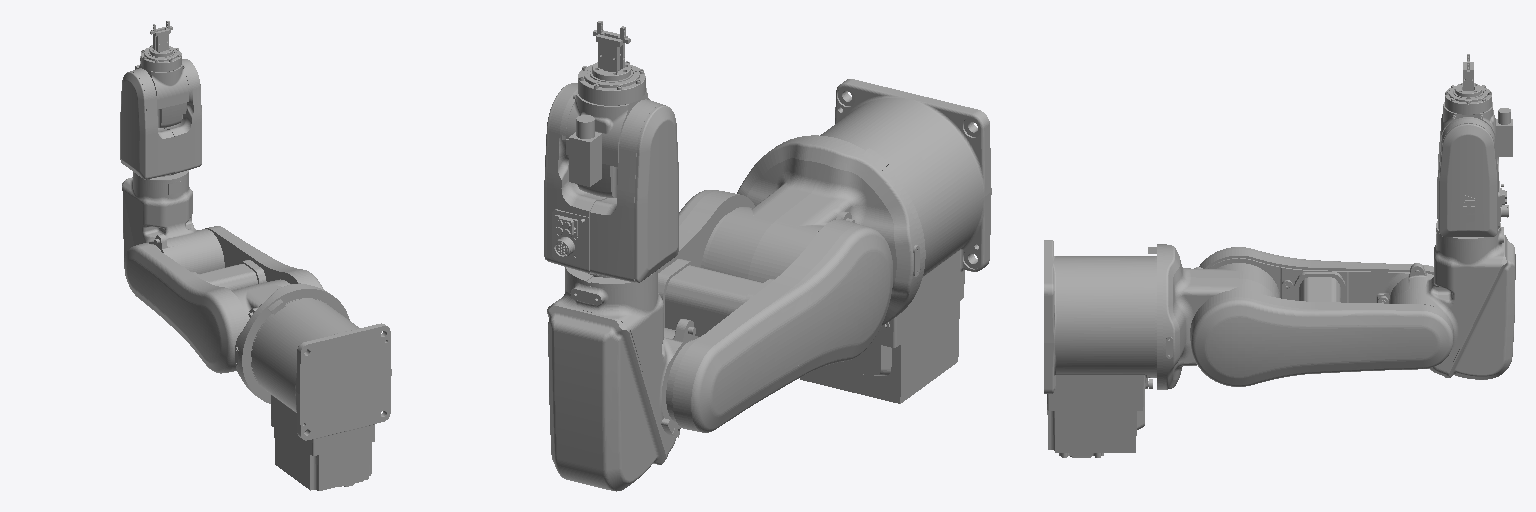
URDF robot description (abb):
<?xml version="1.0" encoding="utf-8"?>
<!-- =================================================================================== -->
<!-- |    This document was autogenerated by xacro from abb.xacro                      | -->
<!-- |    EDITING THIS FILE BY HAND IS NOT RECOMMENDED                                 | -->
<!-- =================================================================================== -->
<robot name="abb">
  <material name="silver">
    <color rgba="0.700 0.700 0.700 1.000"/>
  </material>
  <transmission name="Revolute 1_tran">
    <type>transmission_interface/SimpleTransmission</type>
    <joint name="Revolute 1">
      <hardwareInterface>hardware_interface/EffortJointInterface</hardwareInterface>
    </joint>
    <actuator name="Revolute 1_actr">
      <hardwareInterface>hardware_interface/EffortJointInterface</hardwareInterface>
      <mechanicalReduction>1</mechanicalReduction>
    </actuator>
  </transmission>
  <transmission name="Revolute 2_tran">
    <type>transmission_interface/SimpleTransmission</type>
    <joint name="Revolute 2">
      <hardwareInterface>hardware_interface/EffortJointInterface</hardwareInterface>
    </joint>
    <actuator name="Revolute 2_actr">
      <hardwareInterface>hardware_interface/EffortJointInterface</hardwareInterface>
      <mechanicalReduction>1</mechanicalReduction>
    </actuator>
  </transmission>
  <transmission name="Revolute 3_tran">
    <type>transmission_interface/SimpleTransmission</type>
    <joint name="Revolute 3">
      <hardwareInterface>hardware_interface/EffortJointInterface</hardwareInterface>
    </joint>
    <actuator name="Revolute 3_actr">
      <hardwareInterface>hardware_interface/EffortJointInterface</hardwareInterface>
      <mechanicalReduction>1</mechanicalReduction>
    </actuator>
  </transmission>
  <transmission name="Revolute 4_tran">
    <type>transmission_interface/SimpleTransmission</type>
    <joint name="Revolute 4">
      <hardwareInterface>hardware_interface/EffortJointInterface</hardwareInterface>
    </joint>
    <actuator name="Revolute 4_actr">
      <hardwareInterface>hardware_interface/EffortJointInterface</hardwareInterface>
      <mechanicalReduction>1</mechanicalReduction>
    </actuator>
  </transmission>
  <transmission name="Revolute 5_tran">
    <type>transmission_interface/SimpleTransmission</type>
    <joint name="Revolute 5">
      <hardwareInterface>hardware_interface/EffortJointInterface</hardwareInterface>
    </joint>
    <actuator name="Revolute 5_actr">
      <hardwareInterface>hardware_interface/EffortJointInterface</hardwareInterface>
      <mechanicalReduction>1</mechanicalReduction>
    </actuator>
  </transmission>
  <transmission name="Revolute 6_tran">
    <type>transmission_interface/SimpleTransmission</type>
    <joint name="Revolute 6">
      <hardwareInterface>hardware_interface/EffortJointInterface</hardwareInterface>
    </joint>
    <actuator name="Revolute 6_actr">
      <hardwareInterface>hardware_interface/EffortJointInterface</hardwareInterface>
      <mechanicalReduction>1</mechanicalReduction>
    </actuator>
  </transmission>
  <gazebo>
    <plugin filename="libgazebo_ros_control.so" name="control"/>
  </gazebo>
  <gazebo reference="base_link">
    <material>Gazebo/Silver</material>
    <mu1>0.2</mu1>
    <mu2>0.2</mu2>
    <self_collide>true</self_collide>
    <gravity>true</gravity>
  </gazebo>
  <gazebo reference="link_one_1">
    <material>Gazebo/Silver</material>
    <mu1>0.2</mu1>
    <mu2>0.2</mu2>
    <self_collide>true</self_collide>
  </gazebo>
  <gazebo reference="link_two_1">
    <material>Gazebo/Silver</material>
    <mu1>0.2</mu1>
    <mu2>0.2</mu2>
    <self_collide>true</self_collide>
  </gazebo>
  <gazebo reference="link_three_1">
    <material>Gazebo/Silver</material>
    <mu1>0.2</mu1>
    <mu2>0.2</mu2>
    <self_collide>true</self_collide>
  </gazebo>
  <gazebo reference="link_four_1">
    <material>Gazebo/Silver</material>
    <mu1>0.2</mu1>
    <mu2>0.2</mu2>
    <self_collide>true</self_collide>
  </gazebo>
  <gazebo reference="link_five_1">
    <material>Gazebo/Silver</material>
    <mu1>0.2</mu1>
    <mu2>0.2</mu2>
    <self_collide>true</self_collide>
  </gazebo>
  <gazebo reference="link_six_1">
    <material>Gazebo/Silver</material>
    <mu1>0.2</mu1>
    <mu2>0.2</mu2>
    <self_collide>true</self_collide>
  </gazebo>
  <gazebo reference="left_gripper_1">
    <material>Gazebo/Silver</material>
    <mu1>0.2</mu1>
    <mu2>0.2</mu2>
    <self_collide>true</self_collide>
  </gazebo>
  <gazebo reference="right_gripper_1">
    <material>Gazebo/Silver</material>
    <mu1>0.2</mu1>
    <mu2>0.2</mu2>
    <self_collide>true</self_collide>
  </gazebo>
  <gazebo reference="camera_1">
    <material>Gazebo/Silver</material>
    <mu1>0.2</mu1>
    <mu2>0.2</mu2>
    <self_collide>true</self_collide>
  </gazebo>
  <gazebo reference="ef_body_1">
    <material>Gazebo/Silver</material>
    <mu1>0.2</mu1>
    <mu2>0.2</mu2>
    <self_collide>true</self_collide>
  </gazebo>
  <link name="base_link">
    <inertial>
      <origin rpy="0 0 0" xyz="8.012829465790817e-05 0.0796373967366606 -0.04203909918692455"/>
      <mass value="48.78806525610532"/>
      <inertia ixx="0.38566" ixy="6.3e-05" ixz="0.000634" iyy="0.370816" iyz="-0.010275" izz="0.194109"/>
    </inertial>
    <visual>
      <origin rpy="0 0 0" xyz="0 0 0"/>
      <geometry>
        <mesh filename="package://meshes/base_link.stl" scale="0.001 0.001 0.001"/>
      </geometry>
      <material name="silver"/>
    </visual>
    <collision>
      <origin rpy="0 0 0" xyz="0 0 0"/>
      <geometry>
        <mesh filename="package://meshes/base_link.stl" scale="0.001 0.001 0.001"/>
      </geometry>
    </collision>
  </link>
  <link name="link_one_1">
    <inertial>
      <origin rpy="0 0 0" xyz="-0.00011916443999746602 0.07041182603856488 9.765534797940541e-05"/>
      <mass value="24.076192117313017"/>
      <inertia ixx="0.113074" ixy="-0.000152" ixz="0.000101" iyy="0.082059" iyz="0.000182" izz="0.11161"/>
    </inertial>
    <visual>
      <origin rpy="0 0 0" xyz="-0.0 -0.166 -0.0"/>
      <geometry>
        <mesh filename="package://meshes/link_one_1.stl" scale="0.001 0.001 0.001"/>
      </geometry>
      <material name="silver"/>
    </visual>
    <collision>
      <origin rpy="0 0 0" xyz="-0.0 -0.166 -0.0"/>
      <geometry>
        <mesh filename="package://meshes/link_one_1.stl" scale="0.001 0.001 0.001"/>
      </geometry>
    </collision>
  </link>
  <link name="link_two_1">
    <inertial>
      <origin rpy="0 0 0" xyz="-0.061616888272031205 0.10124228312538341 0.0007963464296757136"/>
      <mass value="30.683386891011434"/>
      <inertia ixx="0.326327" ixy="0.003964" ixz="-5.8e-05" iyy="0.20375" iyz="-0.000476" izz="0.473455"/>
    </inertial>
    <visual>
      <origin rpy="0 0 0" xyz="-0.0595 -0.288 8e-06"/>
      <geometry>
        <mesh filename="package://meshes/link_two_1.stl" scale="0.001 0.001 0.001"/>
      </geometry>
      <material name="silver"/>
    </visual>
    <collision>
      <origin rpy="0 0 0" xyz="-0.0595 -0.288 8e-06"/>
      <geometry>
        <mesh filename="package://meshes/link_two_1.stl" scale="0.001 0.001 0.001"/>
      </geometry>
    </collision>
  </link>
  <link name="link_three_1">
    <inertial>
      <origin rpy="0 0 0" xyz="0.0510673727268393 0.057896173438662824 0.022837283940879072"/>
      <mass value="23.108195954813556"/>
      <inertia ixx="0.131196" ixy="0.001429" ixz="0.000621" iyy="0.099697" iyz="-0.011195" izz="0.06558"/>
    </inertial>
    <visual>
      <origin rpy="0 0 0" xyz="0.05 -0.558 -3.3e-05"/>
      <geometry>
        <mesh filename="package://meshes/link_three_1.stl" scale="0.001 0.001 0.001"/>
      </geometry>
      <material name="silver"/>
    </visual>
    <collision>
      <origin rpy="0 0 0" xyz="0.05 -0.558 -3.3e-05"/>
      <geometry>
        <mesh filename="package://meshes/link_three_1.stl" scale="0.001 0.001 0.001"/>
      </geometry>
    </collision>
  </link>
  <link name="link_four_1">
    <inertial>
      <origin rpy="0 0 0" xyz="0.0002437766059516598 0.00035432075163799315 0.07512904879023294"/>
      <mass value="10.410422726556684"/>
      <inertia ixx="0.031498" ixy="-9.8e-05" ixz="0.000182" iyy="0.041181" iyz="0.00014" izz="0.022294"/>
    </inertial>
    <visual>
      <origin rpy="0 0 0" xyz="-2e-05 -0.627905 -0.14967"/>
      <geometry>
        <mesh filename="package://meshes/link_four_1.stl" scale="0.001 0.001 0.001"/>
      </geometry>
      <material name="silver"/>
    </visual>
    <collision>
      <origin rpy="0 0 0" xyz="-2e-05 -0.627905 -0.14967"/>
      <geometry>
        <mesh filename="package://meshes/link_four_1.stl" scale="0.001 0.001 0.001"/>
      </geometry>
    </collision>
  </link>
  <link name="link_five_1">
    <inertial>
      <origin rpy="0 0 0" xyz="0.031037091987359884 3.887912818956174e-05 -0.0011008963670425809"/>
      <mass value="4.291162754920929"/>
      <inertia ixx="0.00701" ixy="-0.0" ixz="-1.3e-05" iyy="0.006402" iyz="-8e-06" izz="0.003179"/>
    </inertial>
    <visual>
      <origin rpy="0 0 0" xyz="0.03096 -0.627832 -0.302075"/>
      <geometry>
        <mesh filename="package://meshes/link_five_1.stl" scale="0.001 0.001 0.001"/>
      </geometry>
      <material name="silver"/>
    </visual>
    <collision>
      <origin rpy="0 0 0" xyz="0.03096 -0.627832 -0.302075"/>
      <geometry>
        <mesh filename="package://meshes/link_five_1.stl" scale="0.001 0.001 0.001"/>
      </geometry>
    </collision>
  </link>
  <link name="link_six_1">
    <inertial>
      <origin rpy="0 0 0" xyz="0.0001704327498104366 -3.440002126486874e-07 0.005938287091732386"/>
      <mass value="0.10737560006286881"/>
      <inertia ixx="1.3e-05" ixy="-0.0" ixz="-0.0" iyy="1.3e-05" iyz="0.0" izz="2.3e-05"/>
    </inertial>
    <visual>
      <origin rpy="0 0 0" xyz="-4.8e-05 -0.627831 -0.36107"/>
      <geometry>
        <mesh filename="package://meshes/link_six_1.stl" scale="0.001 0.001 0.001"/>
      </geometry>
      <material name="silver"/>
    </visual>
    <collision>
      <origin rpy="0 0 0" xyz="-4.8e-05 -0.627831 -0.36107"/>
      <geometry>
        <mesh filename="package://meshes/link_six_1.stl" scale="0.001 0.001 0.001"/>
      </geometry>
    </collision>
  </link>
  <link name="left_gripper_1">
    <inertial>
      <origin rpy="0 0 0" xyz="-0.6134605599811394 0.0001383187190899804 -0.3982785134737753"/>
      <mass value="0.0035451260308642795"/>
      <inertia ixx="0.0" ixy="0.0" ixz="0.0" iyy="0.0" iyz="-0.0" izz="0.0"/>
    </inertial>
    <visual>
      <origin rpy="0 0 0" xyz="-0.627956 -0.627706 -0.810557"/>
      <geometry>
        <mesh filename="package://meshes/left_gripper_1.stl" scale="0.001 0.001 0.001"/>
      </geometry>
      <material name="silver"/>
    </visual>
    <collision>
      <origin rpy="0 0 0" xyz="-0.627956 -0.627706 -0.810557"/>
      <geometry>
        <mesh filename="package://meshes/left_gripper_1.stl" scale="0.001 0.001 0.001"/>
      </geometry>
    </collision>
  </link>
  <link name="right_gripper_1">
    <inertial>
      <origin rpy="0 0 0" xyz="-0.6423416065798675 0.0001492846021573513 -0.3982746545264991"/>
      <mass value="0.0035451260306269467"/>
      <inertia ixx="0.0" ixy="0.0" ixz="-0.0" iyy="0.0" iyz="-0.0" izz="0.0"/>
    </inertial>
    <visual>
      <origin rpy="0 0 0" xyz="-0.627956 -0.627706 -0.810557"/>
      <geometry>
        <mesh filename="package://meshes/right_gripper_1.stl" scale="0.001 0.001 0.001"/>
      </geometry>
      <material name="silver"/>
    </visual>
    <collision>
      <origin rpy="0 0 0" xyz="-0.627956 -0.627706 -0.810557"/>
      <geometry>
        <mesh filename="package://meshes/right_gripper_1.stl" scale="0.001 0.001 0.001"/>
      </geometry>
    </collision>
  </link>
  <link name="camera_1">
    <inertial>
      <origin rpy="0 0 0" xyz="9.342563472479823e-06 0.01270209988539206 0.004959021796750063"/>
      <mass value="0.2998999503460273"/>
      <inertia ixx="0.000116" ixy="-0.0" ixz="-0.0" iyy="0.000116" iyz="-0.0" izz="3e-05"/>
    </inertial>
    <visual>
      <origin rpy="0 0 0" xyz="-7e-05 -0.668805 -0.293055"/>
      <geometry>
        <mesh filename="package://meshes/camera_1.stl" scale="0.001 0.001 0.001"/>
      </geometry>
      <material name="silver"/>
    </visual>
    <collision>
      <origin rpy="0 0 0" xyz="-7e-05 -0.668805 -0.293055"/>
      <geometry>
        <mesh filename="package://meshes/camera_1.stl" scale="0.001 0.001 0.001"/>
      </geometry>
    </collision>
  </link>
  <link name="ef_body_1">
    <inertial>
      <origin rpy="0 0 0" xyz="6.411121603684631e-06 1.1494758027863483e-05 0.020963560953154603"/>
      <mass value="0.10781653983510255"/>
      <inertia ixx="2e-05" ixy="0.0" ixz="0.0" iyy="2.2e-05" iyz="-0.0" izz="7e-06"/>
    </inertial>
    <visual>
      <origin rpy="0 0 0" xyz="-4.9e-05 -0.627833 -0.36807"/>
      <geometry>
        <mesh filename="package://meshes/ef_body_1.stl" scale="0.001 0.001 0.001"/>
      </geometry>
      <material name="silver"/>
    </visual>
    <collision>
      <origin rpy="0 0 0" xyz="-4.9e-05 -0.627833 -0.36807"/>
      <geometry>
        <mesh filename="package://meshes/ef_body_1.stl" scale="0.001 0.001 0.001"/>
      </geometry>
    </collision>
  </link>
  <joint name="Revolute 1" type="continuous">
    <origin rpy="0 0 0" xyz="0.0 0.166 0.0"/>
    <parent link="base_link"/>
    <child link="link_one_1"/>
    <axis xyz="-0.0 -1.0 -0.0"/>
  </joint>
  <joint name="Revolute 2" type="continuous">
    <origin rpy="0 0 0" xyz="0.0595 0.122 -8e-06"/>
    <parent link="link_one_1"/>
    <child link="link_two_1"/>
    <axis xyz="-1.0 0.0 0.000133"/>
  </joint>
  <joint name="Revolute 3" type="continuous">
    <origin rpy="0 0 0" xyz="-0.1095 0.27 4.1e-05"/>
    <parent link="link_two_1"/>
    <child link="link_three_1"/>
    <axis xyz="-1.0 0.0 0.000133"/>
  </joint>
  <joint name="Revolute 4" type="continuous">
    <origin rpy="0 0 0" xyz="0.05002 0.069905 0.149637"/>
    <parent link="link_three_1"/>
    <child link="link_four_1"/>
    <axis xyz="0.000133 -0.000634 1.0"/>
  </joint>
  <joint name="Revolute 5" type="continuous">
    <origin rpy="0 0 0" xyz="-0.03098 -7.3e-05 0.152405"/>
    <parent link="link_four_1"/>
    <child link="link_five_1"/>
    <axis xyz="1.0 -0.000752 -0.000133"/>
  </joint>
  <joint name="Revolute 6" type="continuous">
    <origin rpy="0 0 0" xyz="0.031008 -1e-06 0.058995"/>
    <parent link="link_five_1"/>
    <child link="link_six_1"/>
    <axis xyz="0.000134 0.000374 1.0"/>
  </joint>
  <joint name="Rigid 8" type="fixed">
    <origin rpy="0 0 0" xyz="0.627907 -0.000127 0.442487"/>
    <parent link="ef_body_1"/>
    <child link="left_gripper_1"/>
  </joint>
  <joint name="Rigid 9" type="fixed">
    <origin rpy="0 0 0" xyz="0.627907 -0.000127 0.442487"/>
    <parent link="ef_body_1"/>
    <child link="right_gripper_1"/>
  </joint>
  <joint name="Rigid 10" type="fixed">
    <origin rpy="0 0 0" xyz="0.03103 0.040973 -0.00902"/>
    <parent link="link_five_1"/>
    <child link="camera_1"/>
  </joint>
  <joint name="Rigid 11" type="fixed">
    <origin rpy="0 0 0" xyz="1e-06 2e-06 0.007"/>
    <parent link="link_six_1"/>
    <child link="ef_body_1"/>
  </joint>
</robot>

--- Facts derived from the render (not from the file) ---
Views: 3 orthographic renders of the robot side by side, from view 1: azimuth 30°, elevation 25°; view 2: azimuth 150°, elevation 25°; view 3: azimuth 270°, elevation 25°.
Model abb with 11 links and 10 joints (6 continuous, 4 fixed), rooted at base_link, posed every joint at zero.
Visible links, largest first — view 1: base_link, link_two_1, link_four_1, link_three_1, link_one_1, link_five_1; view 2: link_two_1, base_link, link_three_1, link_one_1, link_four_1, link_five_1, camera_1, ef_body_1; view 3: link_two_1, base_link, link_three_1, link_one_1, link_four_1, link_five_1, camera_1.
Link boxes in pixels (bbox=[...]): base_link: bbox=[252, 299, 391, 490]; link_two_1: bbox=[124, 226, 323, 373]; link_four_1: bbox=[120, 59, 201, 179]; link_three_1: bbox=[122, 170, 224, 275]; link_one_1: bbox=[232, 279, 349, 403]; link_five_1: bbox=[138, 45, 188, 127]; link_two_1: bbox=[658, 190, 892, 432]; base_link: bbox=[800, 79, 991, 403]; link_three_1: bbox=[547, 267, 698, 491]; link_one_1: bbox=[701, 135, 925, 326]; link_four_1: bbox=[544, 83, 678, 282]; link_five_1: bbox=[566, 61, 649, 197]; camera_1: bbox=[569, 115, 601, 186]; ef_body_1: bbox=[596, 30, 627, 72]; link_two_1: bbox=[1190, 247, 1453, 386]; base_link: bbox=[1044, 240, 1154, 457]; link_three_1: bbox=[1389, 221, 1515, 379]; link_one_1: bbox=[1148, 244, 1279, 389]; link_four_1: bbox=[1437, 110, 1508, 236]; link_five_1: bbox=[1441, 85, 1495, 143]; camera_1: bbox=[1496, 108, 1512, 156].
Bounding box of the posed robot: 0.2194 × 0.6976 × 0.6343 m (x, y, z).
Meshes: 11 distinct files referenced, 11 mesh visuals loaded (11 binary STL).